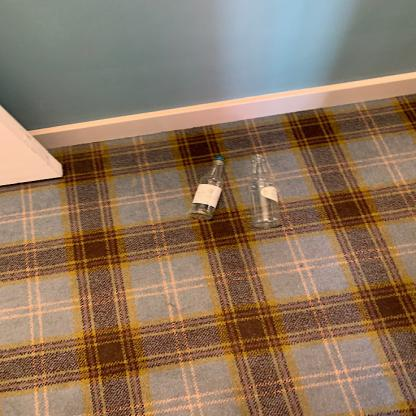trash: (184, 156, 230, 223), (247, 154, 284, 229)
